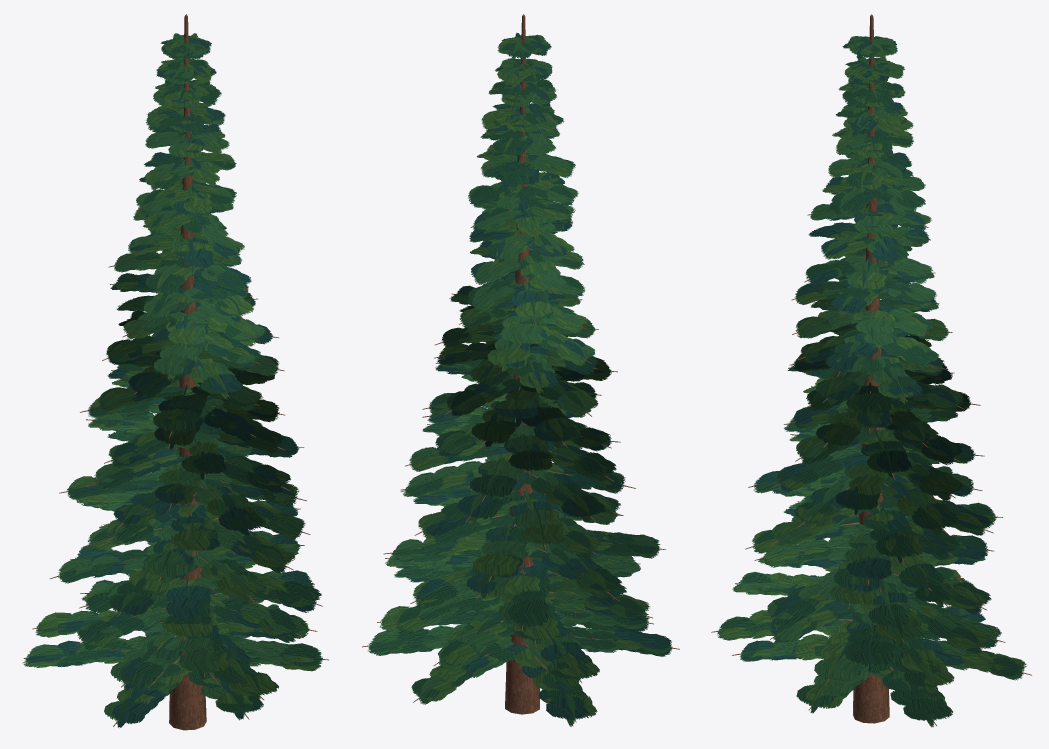
The model's file is hero_spruce_a.obj.
3 views of the same model, side by side, from view 1: azimuth 30°, elevation 25°; view 2: azimuth 150°, elevation 25°; view 3: azimuth 270°, elevation 25° (orthographic). The views are drawn at different scales.
Parts seen in each view (by area): view 1: hero_spruce_a; view 2: hero_spruce_a; view 3: hero_spruce_a.
Part boxes in pixels (bbox=[...]): hero_spruce_a: bbox=[22, 14, 328, 730]; hero_spruce_a: bbox=[362, 14, 679, 726]; hero_spruce_a: bbox=[711, 14, 1031, 727].
Size of the model in its own units: 6.4 by 16.21 by 6.82.
2 materials, 2 textured.
